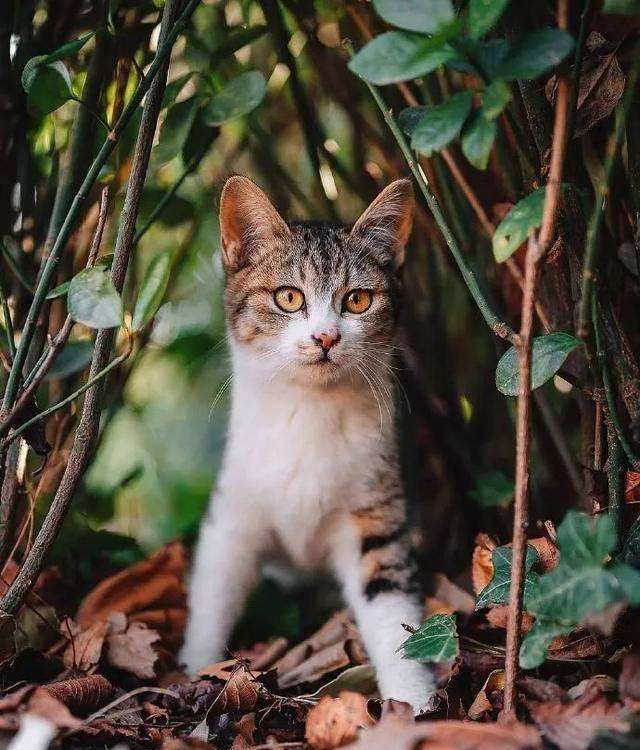cat: (179, 173, 439, 716)
